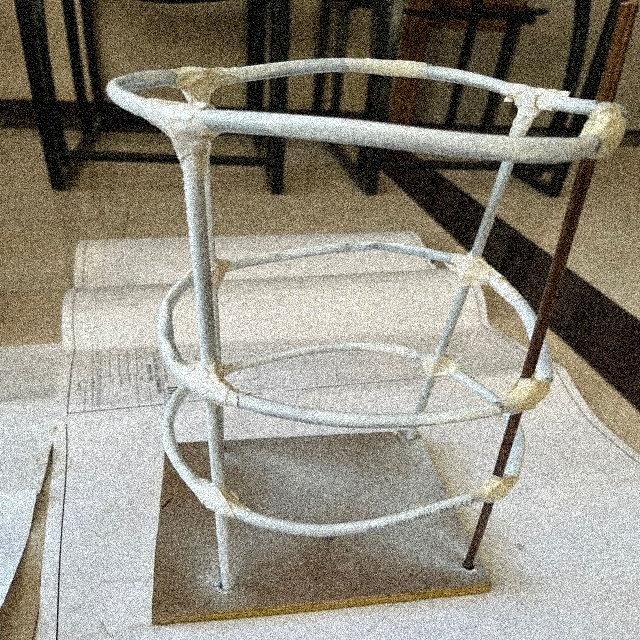silo: (104, 45, 630, 613)
